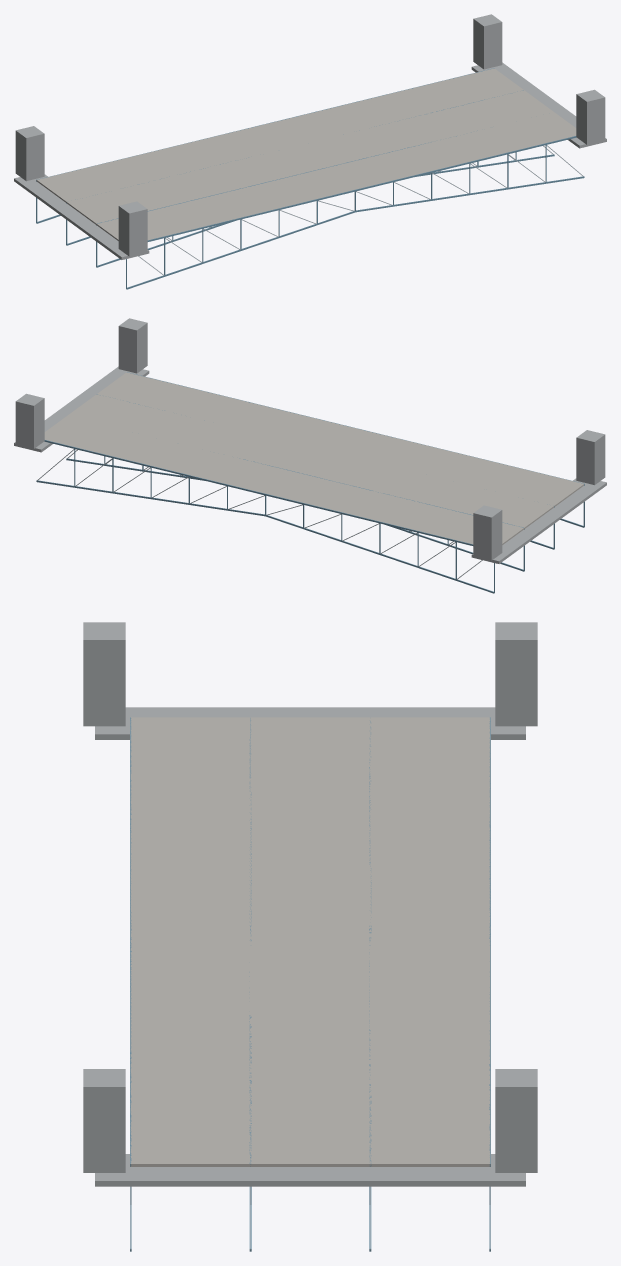
The model's file is bridge.glb.
The picture shows the model from 3 angles, top to bottom: view 1: azimuth 30°, elevation 25°; view 2: azimuth 150°, elevation 25°; view 3: azimuth 270°, elevation 25°; orthographic projection. The views are drawn at different scales.
Parts seen in each view (by area): view 1: deck_002, deck_001, bearing_block_001, bridge_house_004, bridge_house_001, bridge_house_002, bridge_house_003, bearing_block_002, leaf_upper_chord_005, leaf_upper_chord_001; view 2: deck_002, deck_001, bearing_block_001, bridge_house_003, bridge_house_001, bridge_house_002, bridge_house_004, bearing_block_002, leaf_upper_chord_008, leaf_upper_chord_004; view 3: deck_002, deck_001, bearing_block_002, bearing_block_001, bridge_house_001, bridge_house_002, bridge_house_003, bridge_house_004.
Part boxes in pixels (bbox=[...]): deck_002: bbox=[266, 68, 576, 189]; deck_001: bbox=[36, 124, 354, 240]; bearing_block_001: bbox=[14, 174, 149, 259]; bridge_house_004: bbox=[473, 14, 502, 69]; bridge_house_001: bbox=[118, 201, 147, 256]; bridge_house_002: bbox=[15, 126, 44, 181]; bridge_house_003: bbox=[576, 89, 605, 144]; bearing_block_002: bbox=[471, 62, 606, 148]; leaf_upper_chord_005: bbox=[355, 136, 576, 191]; leaf_upper_chord_001: bbox=[147, 190, 355, 241]; deck_002: bbox=[44, 372, 354, 493]; deck_001: bbox=[266, 428, 583, 544]; bearing_block_001: bbox=[471, 478, 606, 563]; bridge_house_003: bbox=[118, 318, 147, 373]; bridge_house_001: bbox=[576, 430, 605, 485]; bridge_house_002: bbox=[473, 505, 502, 560]; bridge_house_004: bbox=[15, 393, 44, 448]; bearing_block_002: bbox=[14, 366, 149, 452]; leaf_upper_chord_008: bbox=[44, 440, 265, 495]; leaf_upper_chord_004: bbox=[265, 494, 473, 545]; deck_002: bbox=[130, 940, 490, 1166]; deck_001: bbox=[130, 717, 490, 940]; bearing_block_002: bbox=[95, 1154, 525, 1186]; bearing_block_001: bbox=[95, 707, 525, 739]; bridge_house_001: bbox=[83, 622, 125, 726]; bridge_house_002: bbox=[495, 622, 537, 726]; bridge_house_003: bbox=[83, 1069, 125, 1172]; bridge_house_004: bbox=[495, 1069, 537, 1172].
Size of the model in its own units: 106 by 18.15 by 43.
